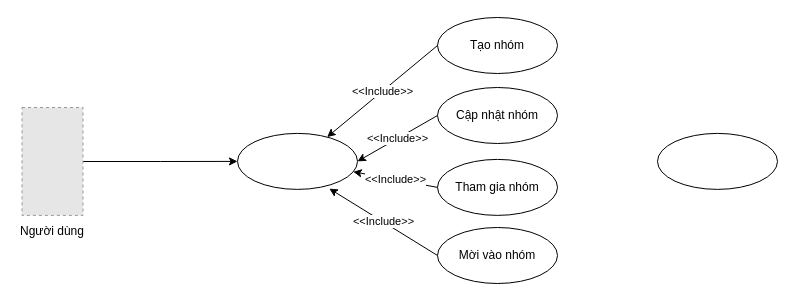
Image size: 795x301. Some labels were removed from this diagram. Grey dashed boxes stand in for pictures. Here are the shapes that lost their labels. From the top down, the box of each, then its label:
(236, 132, 358, 189): Quản lý nhóm
(656, 132, 778, 189): Hiển thị
